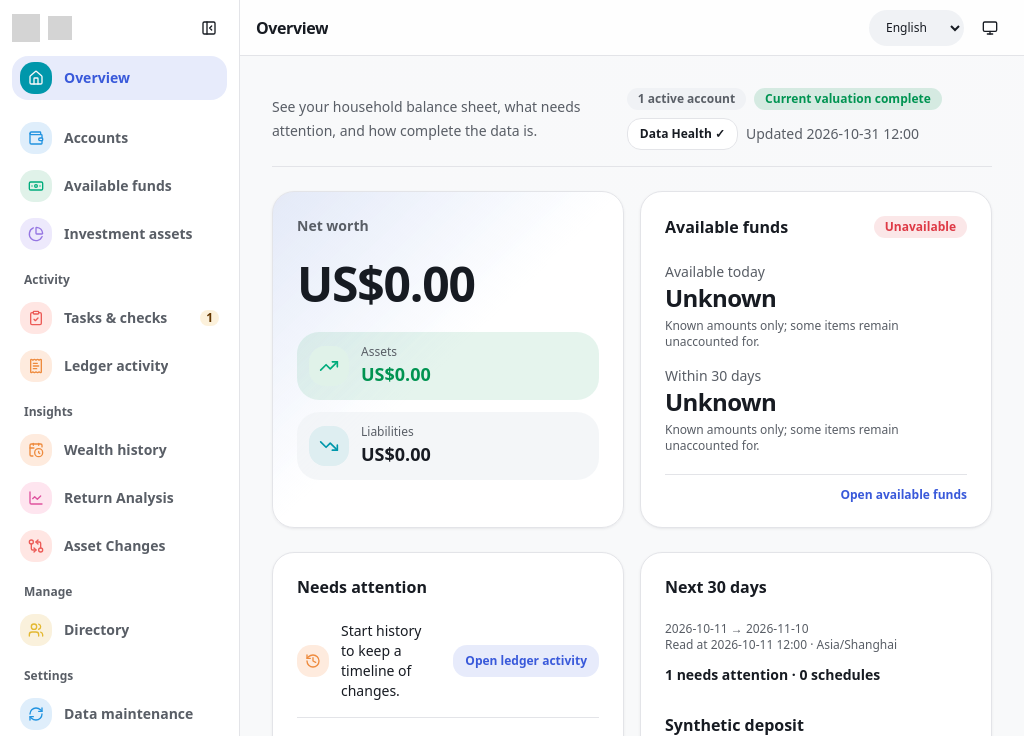
Test: App shell smoke test › opens holdings first and keeps allocation as a secondary investment view
The width and height of the screenshot is (1024, 736).
Expected: the text with test id "overview-net-worth" is shown, [297,251,475,316]
Click the button "Investment assets" at (120, 234), box [12,212,227,256]
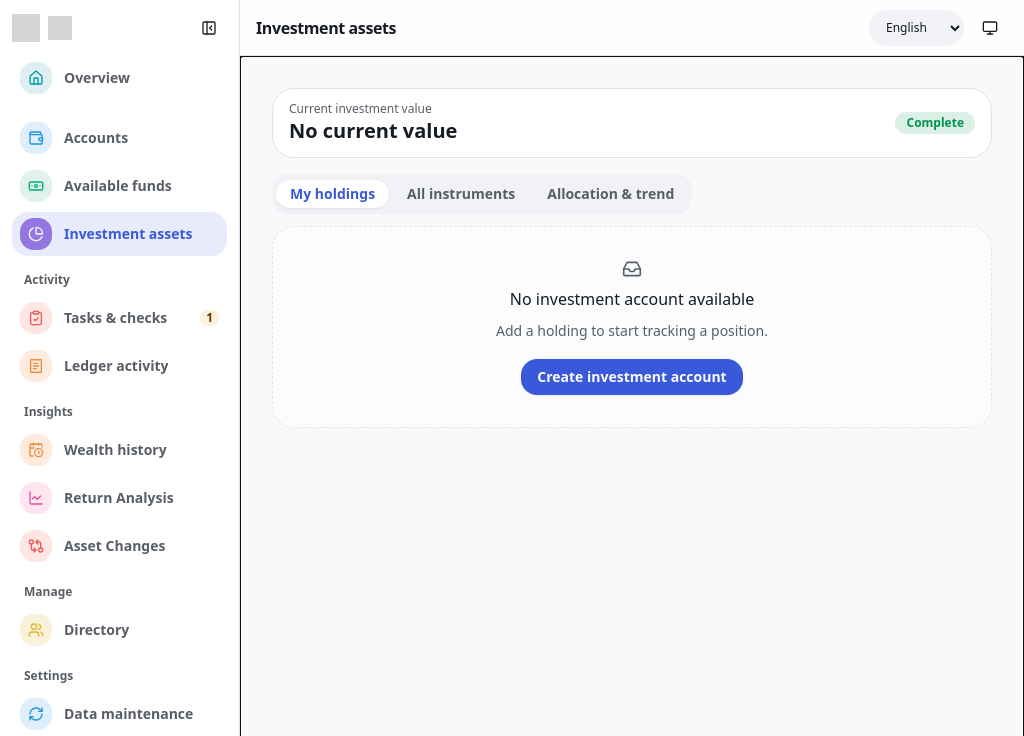
Now the heading "No investment account available" is shown, box [510,287,754,311]
Now the heading "Investment assets" is shown, box [256,16,396,40]
Click the tab "Allocation & trend" at (611, 194), box [533,180,688,208]
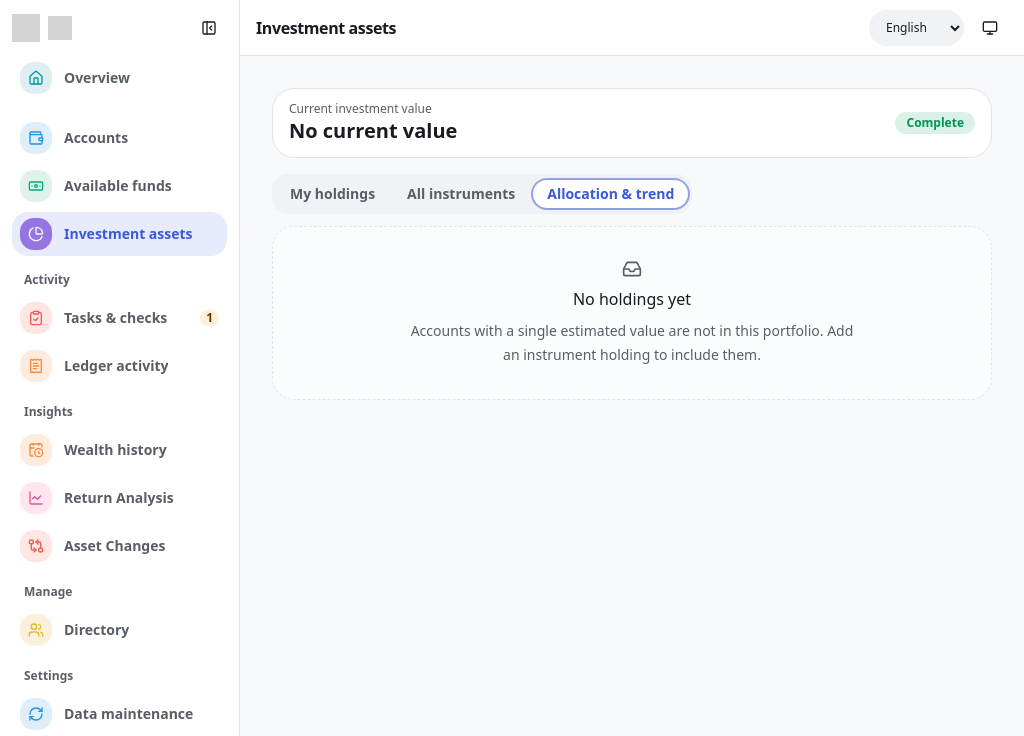
Now the element with test id "portfolio-page" is shown, box [272,226,992,400]
Now the heading "No investment account available" is gone
